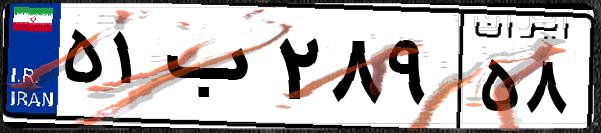1: (110, 28, 158, 98)
2: (270, 28, 330, 110)
5: (57, 26, 110, 100), (475, 38, 525, 113)
8: (330, 28, 385, 110), (525, 38, 570, 115)
9: (385, 28, 445, 110)
ب: (158, 20, 270, 120)
